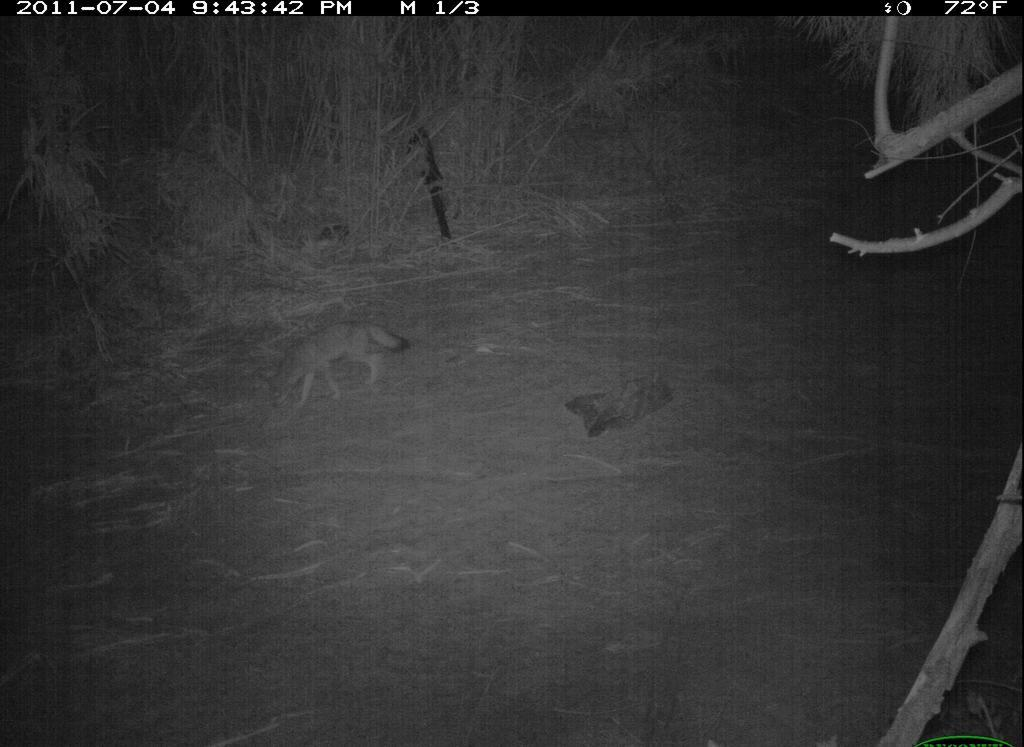coyote: (260, 305, 415, 427)
